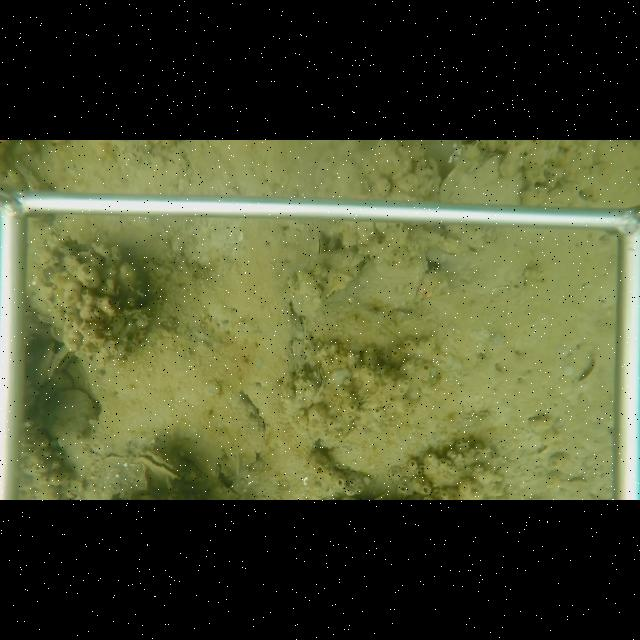Oyster-Closed: (331, 241, 433, 309), (440, 152, 531, 206), (49, 389, 102, 427), (42, 343, 76, 384), (313, 363, 329, 402)
Oyster-Open: (133, 448, 190, 483), (313, 232, 324, 260)
